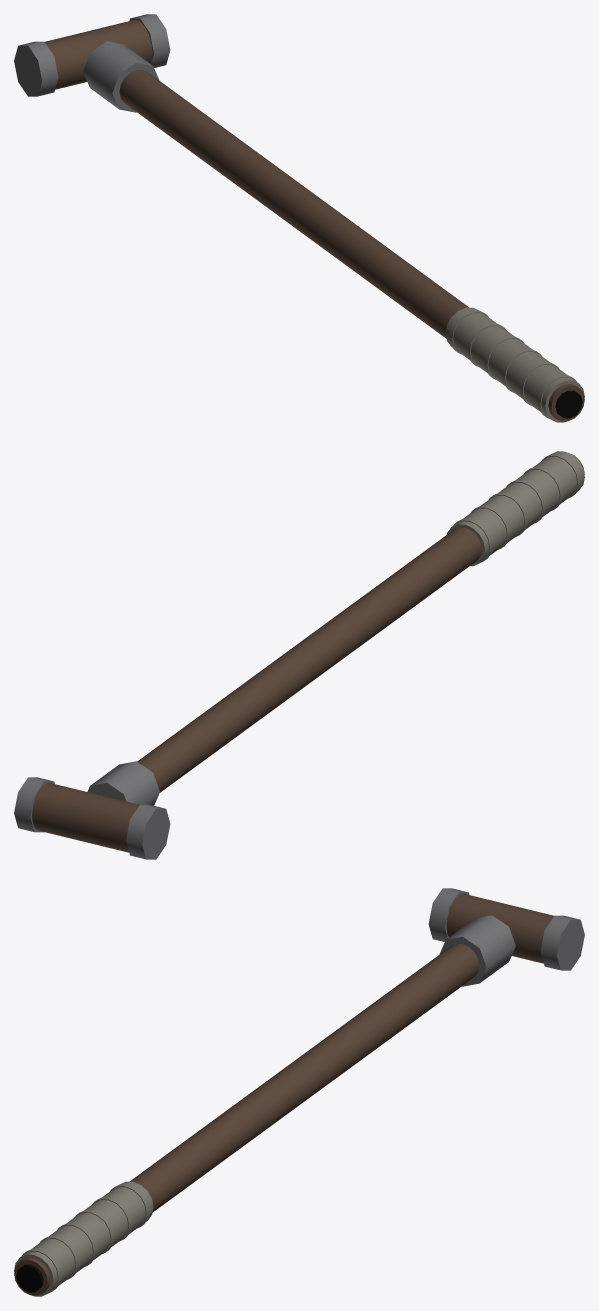
Rendered from pipe.glb.
3 renders of one model, top to bottom at view 1: azimuth 30°, elevation 25°; view 2: azimuth 150°, elevation 25°; view 3: azimuth 330°, elevation 25°, orthographic.
Visible parts, largest first — view 1: part, part.002, part.010, part.009, part.012, part.011, part.001; view 2: part, part.010, part.002, part.009, part.012, part.011; view 3: part, part.002, part.010, part.009, part.011, part.012, part.001.
Part boxes in pixels (box(x1,y1,x2,y2)): part: box(119, 70, 584, 421); part.002: box(445, 307, 584, 422); part.010: box(45, 19, 152, 89); part.009: box(83, 41, 159, 112); part.012: box(14, 41, 58, 96); part.011: box(129, 14, 170, 67); part.001: box(555, 390, 582, 418); part: box(137, 452, 584, 792); part.010: box(32, 782, 139, 852); part.002: box(446, 451, 584, 566); part.009: box(87, 761, 159, 805); part.012: box(126, 804, 170, 859); part.011: box(14, 777, 54, 832); part: box(14, 944, 479, 1295); part.002: box(14, 1181, 153, 1296); part.010: box(446, 893, 553, 963); part.009: box(439, 915, 515, 986); part.011: box(540, 915, 584, 970); part.012: box(428, 888, 469, 941); part.001: box(16, 1264, 43, 1292).
Bounding box in the file's own units: 0.126 × 0.048 × 0.8375.
